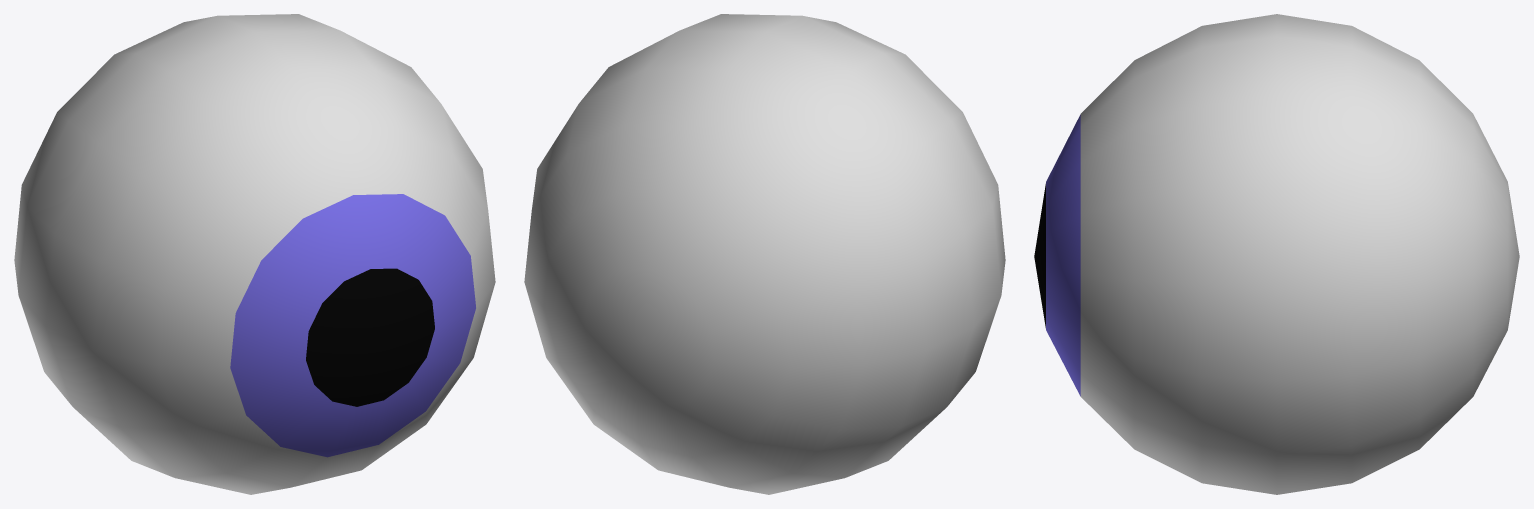
The model's file is KN_Eyeball.fbx.
3 renders of one model, left to right at view 1: azimuth 30°, elevation 25°; view 2: azimuth 150°, elevation 25°; view 3: azimuth 270°, elevation 25°, orthographic.
Parts seen in each view (by area): view 1: Eyeball; view 2: Eyeball; view 3: Eyeball.
Part boxes in pixels (left/top/right/bottom): Eyeball: left=14, top=14, right=495, bottom=494; Eyeball: left=524, top=14, right=1005, bottom=494; Eyeball: left=1034, top=14, right=1519, bottom=494.
Size of the model in its own units: 22.61 by 22.48 by 22.73.
